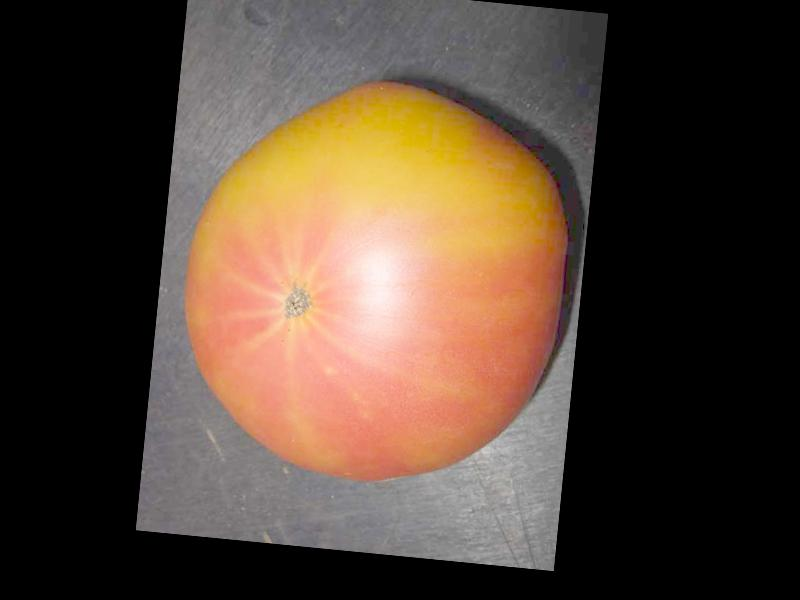Tomato: (168, 70, 582, 497)
